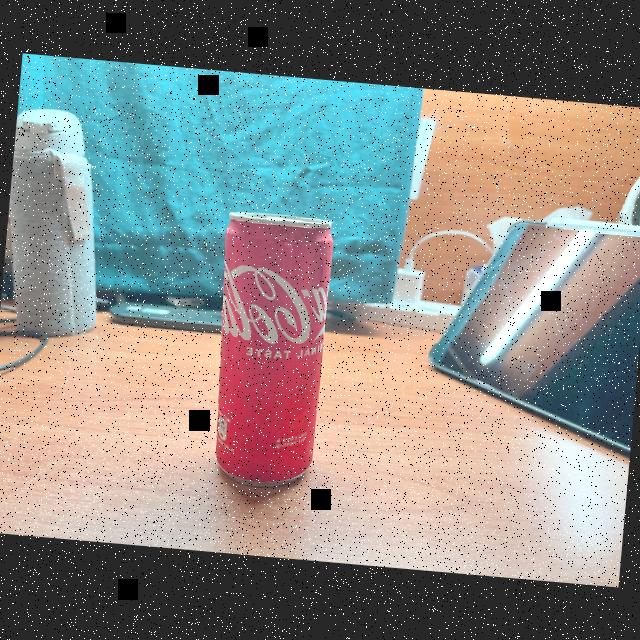can: (206, 205, 339, 493)
